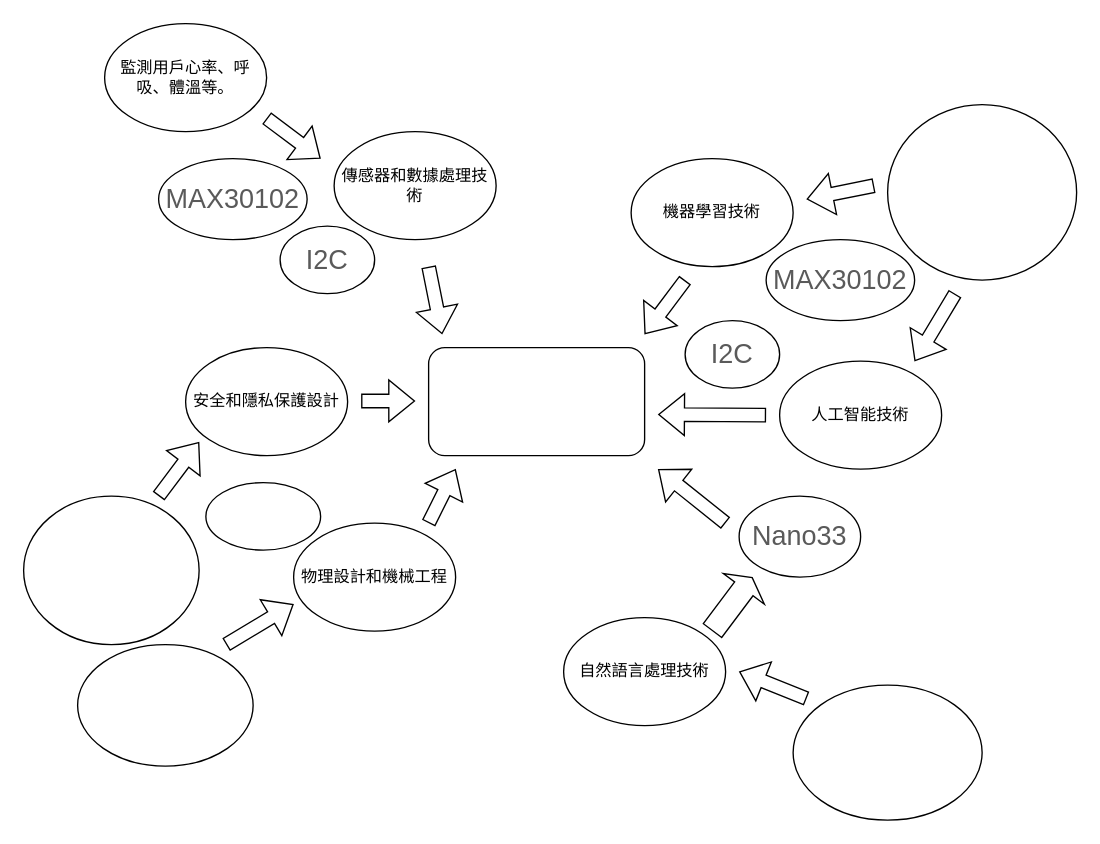
The diagram is 1100 pixels wide and 844 high, and some of its shapes have lost their labels. The centre of each missing label's shape, as x and y in pixels:
"AS608" belongs at (x=263, y=515).
"支援語音和手勢控制，以方便使用者與機器人進行溝通。" belongs at (x=887, y=752).
"智能健康管理機器人" belongs at (x=536, y=401).
"機器人的可靠性、耐用性和靈活性" belongs at (x=164, y=704).
"確保用戶的健康資料和個人資訊不會被洩露或濫用。" belongs at (x=110, y=570).
"識別用戶的健康問題和疾病風險，並提供個性化的醫療建議和治療方案。" belongs at (x=981, y=191).
